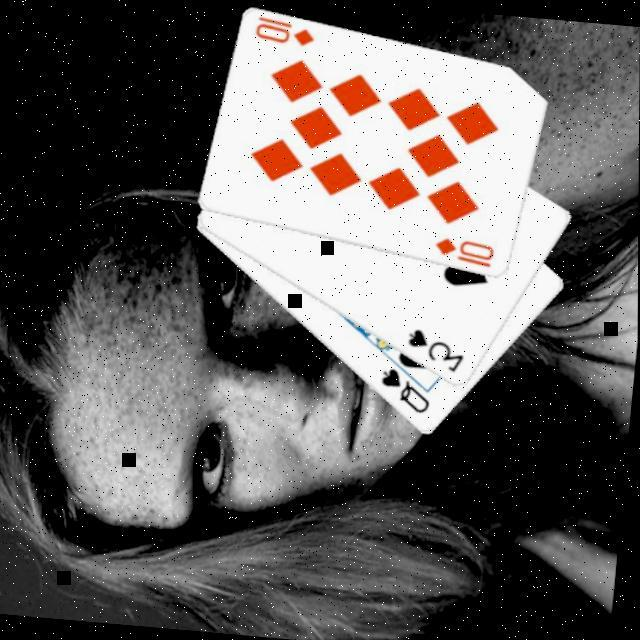10D: (428, 233, 496, 271), (249, 12, 317, 49)
3S: (400, 323, 468, 376)
QS: (373, 362, 435, 417)
